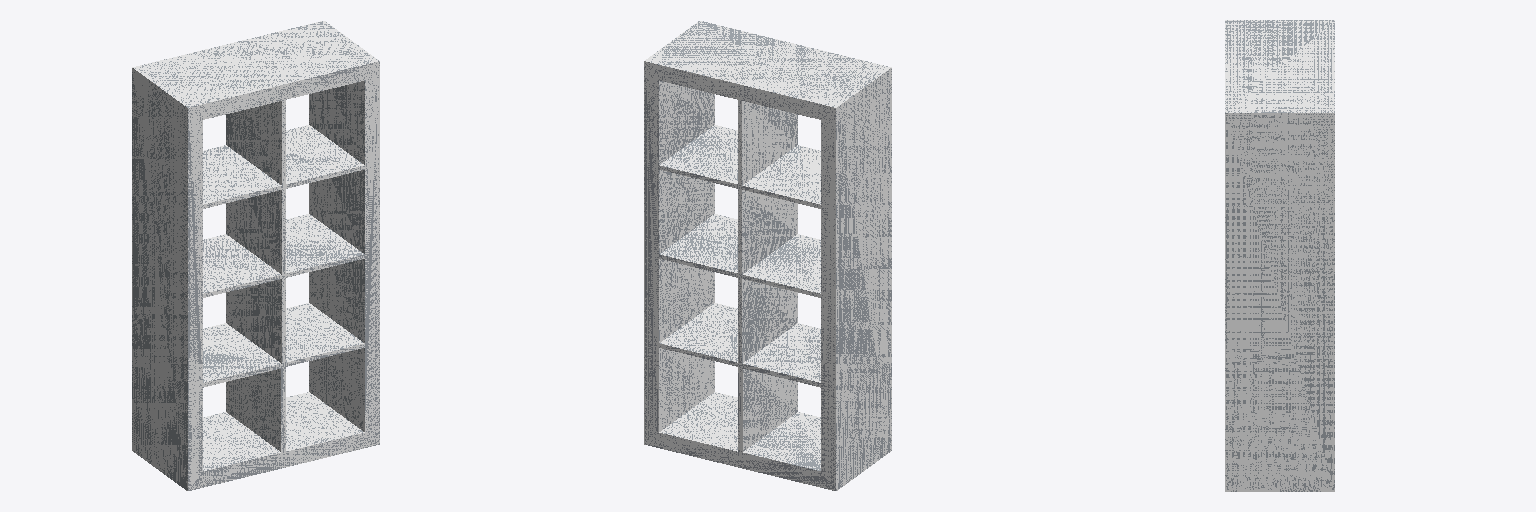
URDF robot description (cabinet_ikea_kallax_4x2):
<?xml version="1.0" ?>
<robot name="cabinet_ikea_kallax_4x2" static="true">
  <link name="base_link">
  <inertial>
    <mass value="1.0" />
    <origin xyz="0 0 0.0" />
    <inertia ixx="1.0" ixy="0.0" ixz="0.0" iyy="1.0" iyz="0.0" izz="1.0"/>
  </inertial>
  <visual>
   <origin xyz="0 0 0.0" rpy="0 0 0" />
   <geometry>
     <mesh filename="package://cob_gazebo_objects/Media/models/cabinet_ikea_kallax_4x2.dae"/>
   </geometry>
  </visual>
  <collision>
   <origin xyz="0 0 0.0" rpy="0 0 0" />
   <geometry>
     <mesh filename="package://cob_gazebo_objects/Media/models/cabinet_ikea_kallax_4x2.stl"/>
   </geometry>
  </collision>
  </link>

<gazebo>
	<static>true</static>
</gazebo>
</robot>

--- Facts derived from the render (not from the file) ---
Views: 3 orthographic renders of the robot side by side, from view 1: azimuth 30°, elevation 25°; view 2: azimuth 150°, elevation 25°; view 3: azimuth 270°, elevation 25°.
Robot: cabinet_ikea_kallax_4x2 — 1 links, 0 joints (none); root link base_link; default pose: every joint at zero.
Links seen in each view (by area): view 1: base_link; view 2: base_link; view 3: base_link.
Link boxes in pixels (x1=…): base_link: x1=132, y1=21, x2=379, y2=490; base_link: x1=644, y1=21, x2=891, y2=490; base_link: x1=1225, y1=20, x2=1334, y2=491.
Size in the robot's own frame: 0.772 by 0.386 by 1.47 metres.
1 mesh visuals loaded from 1 distinct referenced files (1 Collada DAE).